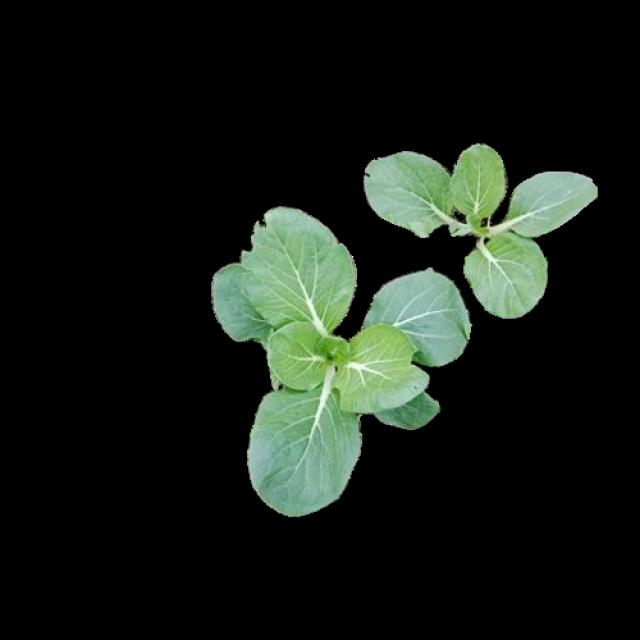healthy: (360, 137, 592, 316)
not-mature: (210, 207, 471, 514), (362, 140, 595, 318)
unhealthy: (237, 207, 356, 342), (329, 324, 430, 411)
